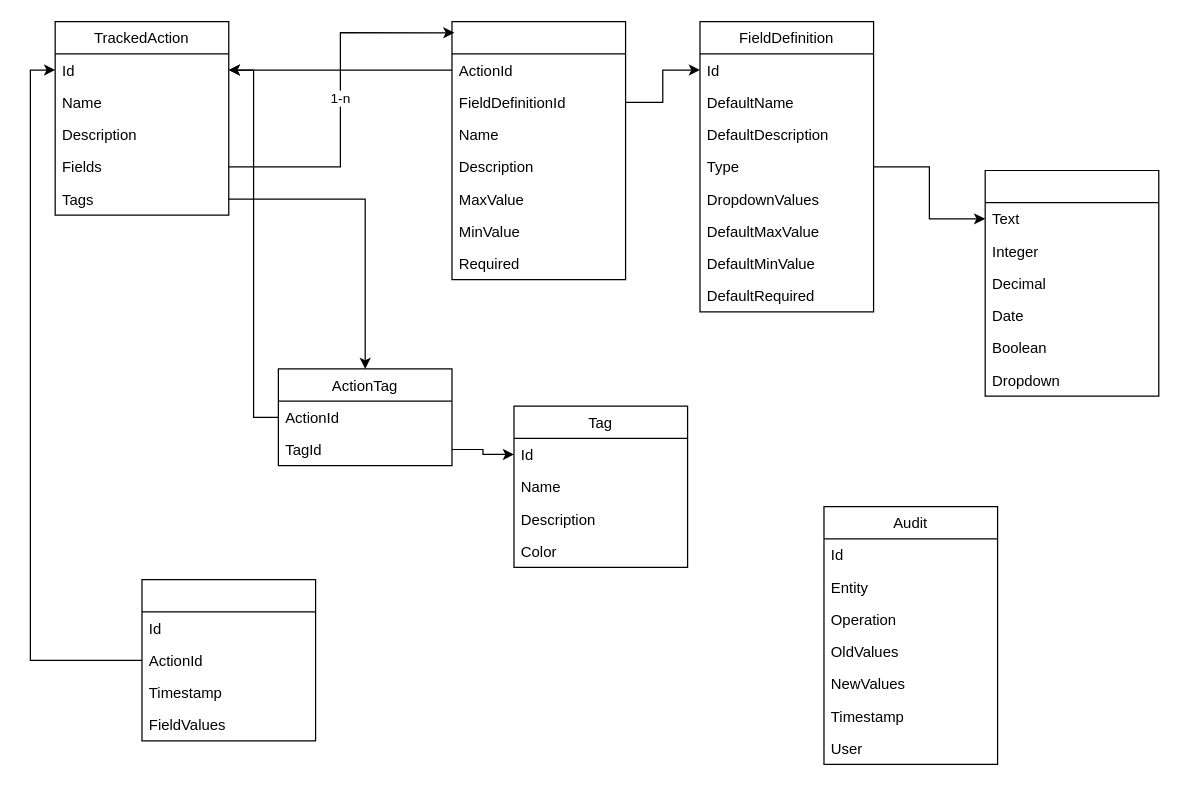
This 1180x790 diagram has some shape labels left out. Here are the shapes that lost their labels. From the top down, the box of each, then its label:
(451, 20, 626, 280): ActionField
(984, 169, 1159, 396): FieldType
(141, 578, 316, 741): ActionEntry
